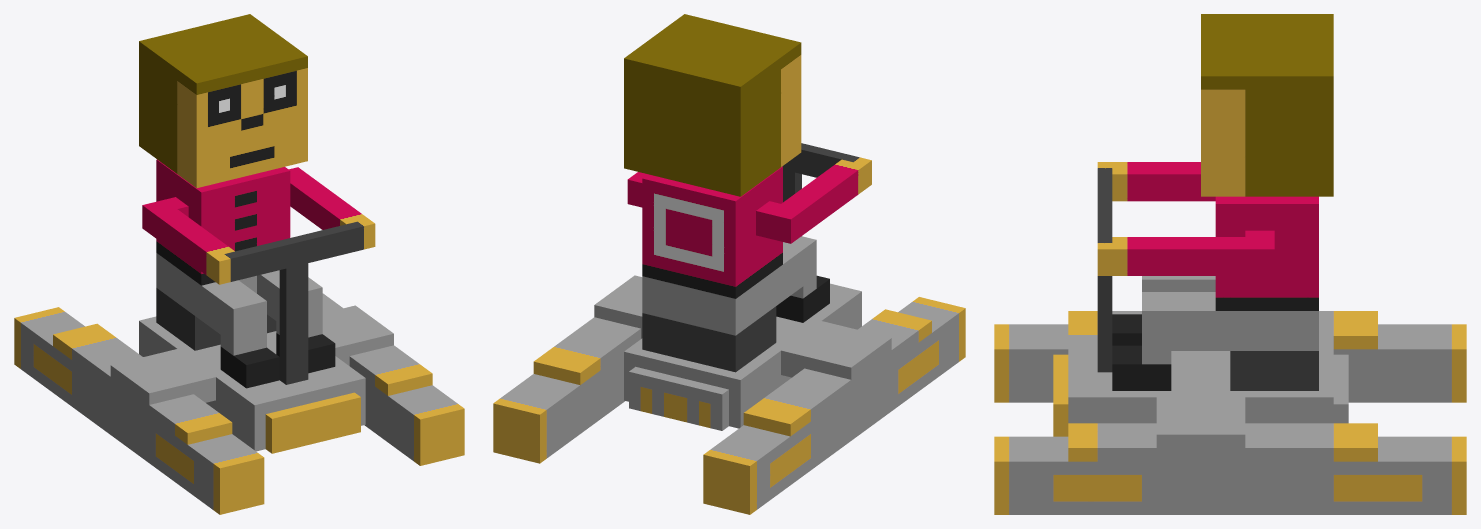
The model's file is Character_16.fbx.
The picture shows the model from 3 angles, left to right: view 1: azimuth 30°, elevation 25°; view 2: azimuth 150°, elevation 25°; view 3: azimuth 270°, elevation 25°; orthographic projection. The views are drawn at different scales.
Parts seen in each view (by area): view 1: Character_16; view 2: Character_16; view 3: Character_16.
Part boxes in pixels (<box>): Character_16: <box>14,14,464,514</box>; Character_16: <box>493,14,965,514</box>; Character_16: <box>994,14,1466,514</box>.
Size of the model in its own units: 22 by 30 by 32.
1 material, 1 textured.
